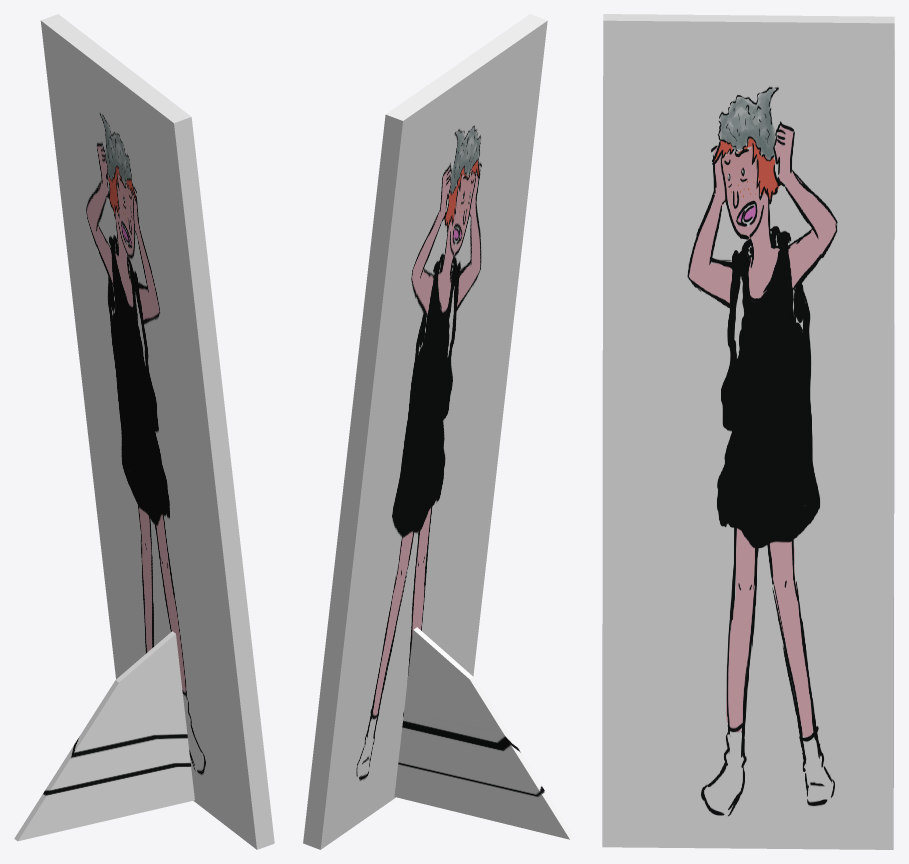
The model's file is axel guy.fbx.
3 views of the same model, side by side, from view 1: azimuth 30°, elevation 25°; view 2: azimuth 150°, elevation 25°; view 3: azimuth 270°, elevation 25° (orthographic). The views are drawn at different scales.
Visible parts, largest first — view 1: Cube; view 2: Cube; view 3: Cube.
Part boxes in pixels (x1,y1,x2,y2): Cube: (14,14,274,849); Cube: (303,14,573,849); Cube: (602,14,894,849).
Size of the model in its own units: 1.16 by 4.22 by 1.42.
